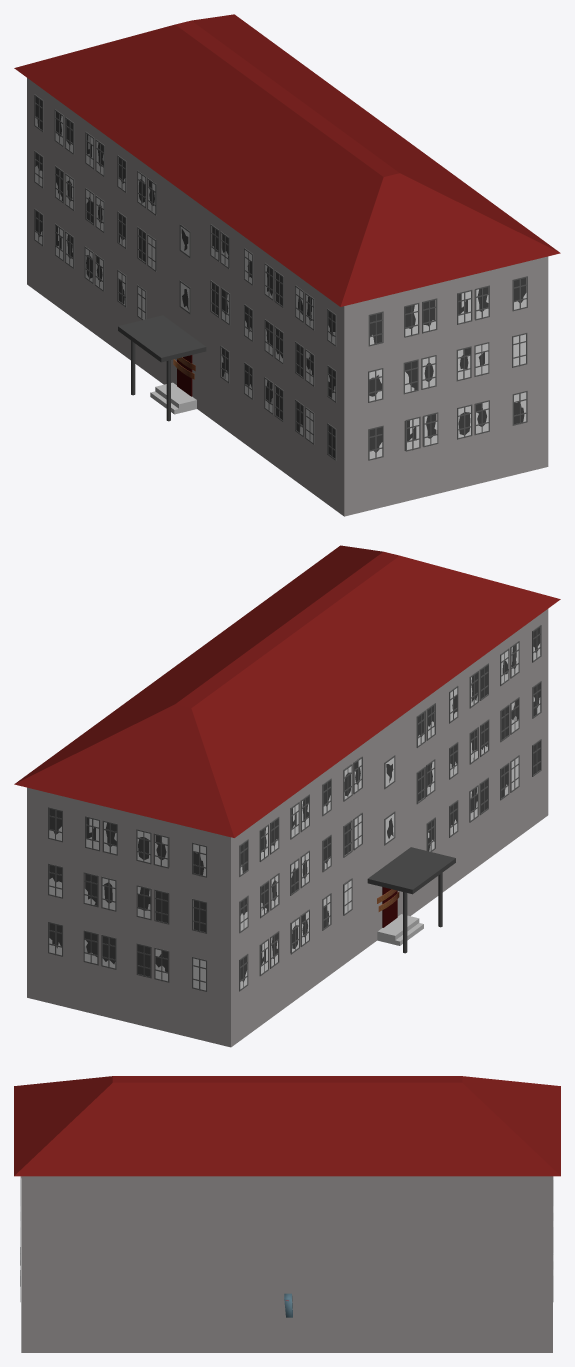
File: house2.fbx
3 renders of one model, top to bottom at view 1: azimuth 30°, elevation 25°; view 2: azimuth 150°, elevation 25°; view 3: azimuth 270°, elevation 25°, orthographic. The views are drawn at different scales.
Parts seen in each view (by area): view 1: Cube.059, Cube.138, windows, Black, glass, Cube.110, Cube.111; view 2: Cube.059, Cube.138, windows, Black, glass, Cube.110, Cube.111; view 3: Cube.059, Cube.138.
Boxes of the visible parts, x1,y1,x2,y2 form: Cube.059: [27, 78, 548, 516]; Cube.138: [14, 14, 560, 306]; windows: [34, 94, 527, 460]; Black: [35, 96, 526, 458]; glass: [35, 115, 526, 458]; Cube.110: [118, 315, 206, 421]; Cube.111: [150, 382, 196, 414]; Cube.059: [27, 609, 548, 1047]; Cube.138: [14, 545, 560, 837]; windows: [48, 625, 541, 991]; Black: [49, 627, 540, 981]; glass: [49, 643, 540, 990]; Cube.110: [367, 847, 455, 953]; Cube.111: [377, 914, 423, 945]; Cube.059: [21, 1176, 552, 1352]; Cube.138: [14, 1076, 560, 1176].
Bounding box in the file's own units: 827 × 746 × 1594.
